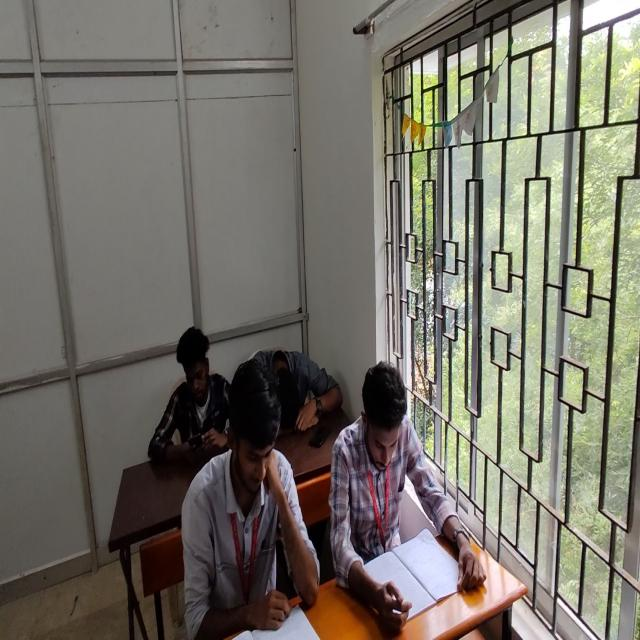reading: (180, 354, 320, 640), (349, 358, 480, 614)
sleeping: (246, 347, 339, 436)
using_mobile: (146, 326, 232, 464)
